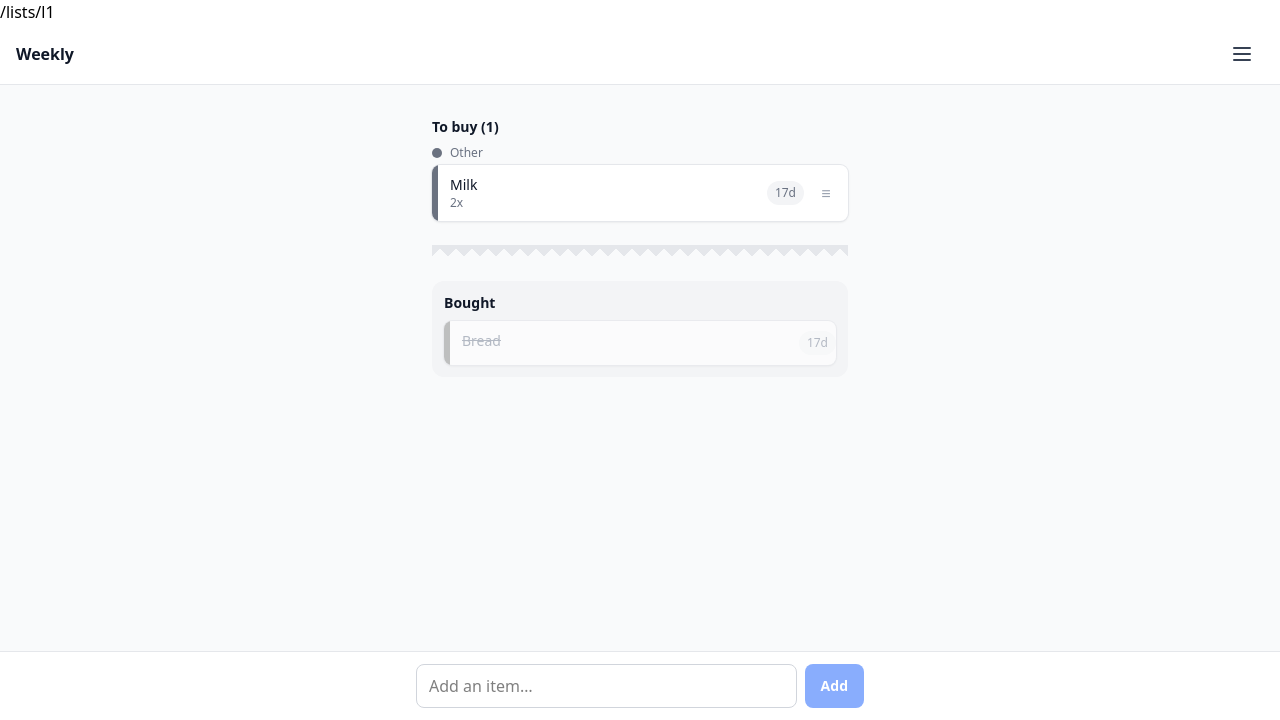
ListsPage (docs/TASKS.md → T30 single-line header + overlay menu) › creates a list from the menu, selects it, and refetches its items
Expected: the list item with test id "item-row-i1" is shown, [432,165,848,221]
Click the button named "Menu". click: point(1242, 54)
box: [1220,32,1264,76]
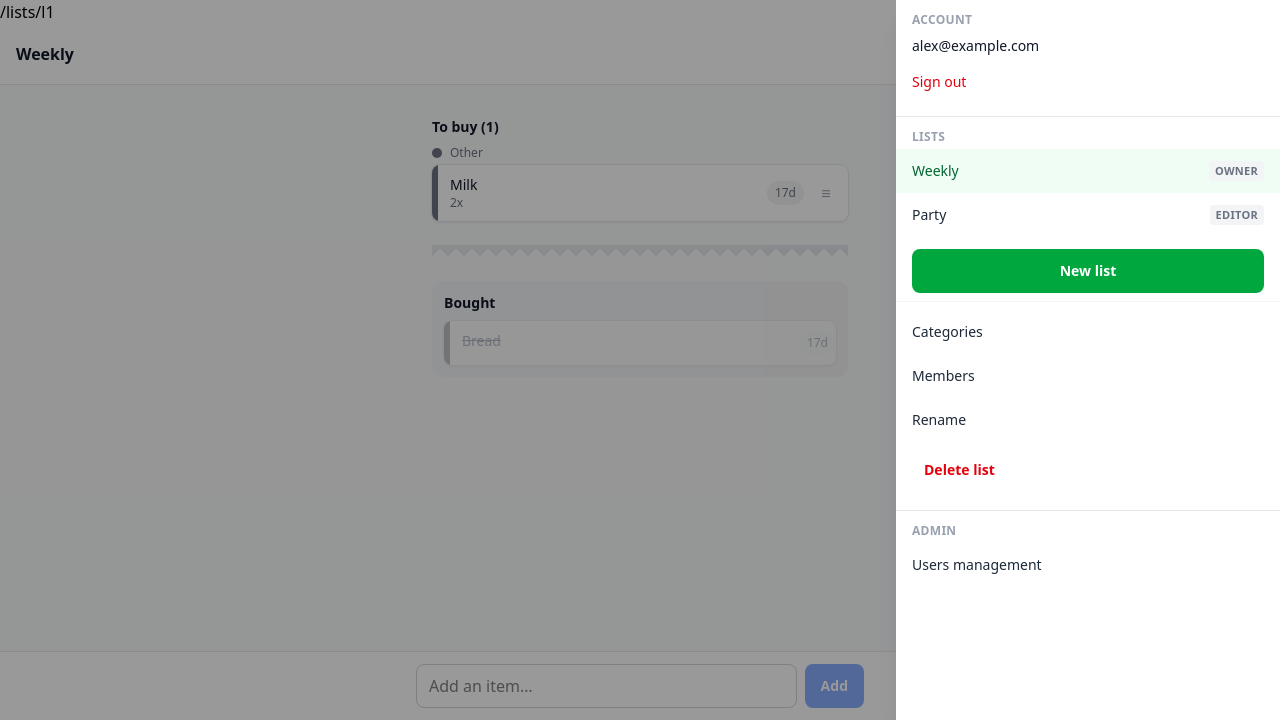
Click the button "New list". click: point(1088, 271)
box: [912,249,1264,293]
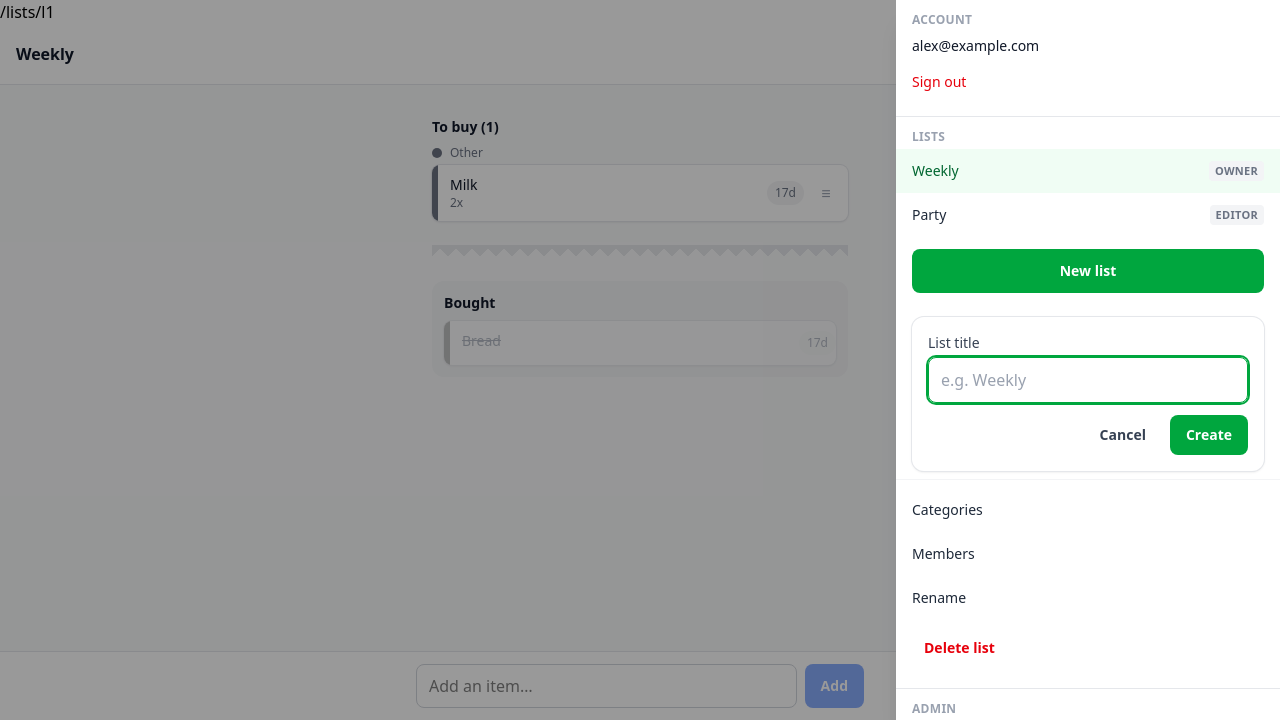
Type "Party prep" into the field labelled "List title". click: point(1088, 380)
box: [928,357,1248,403]
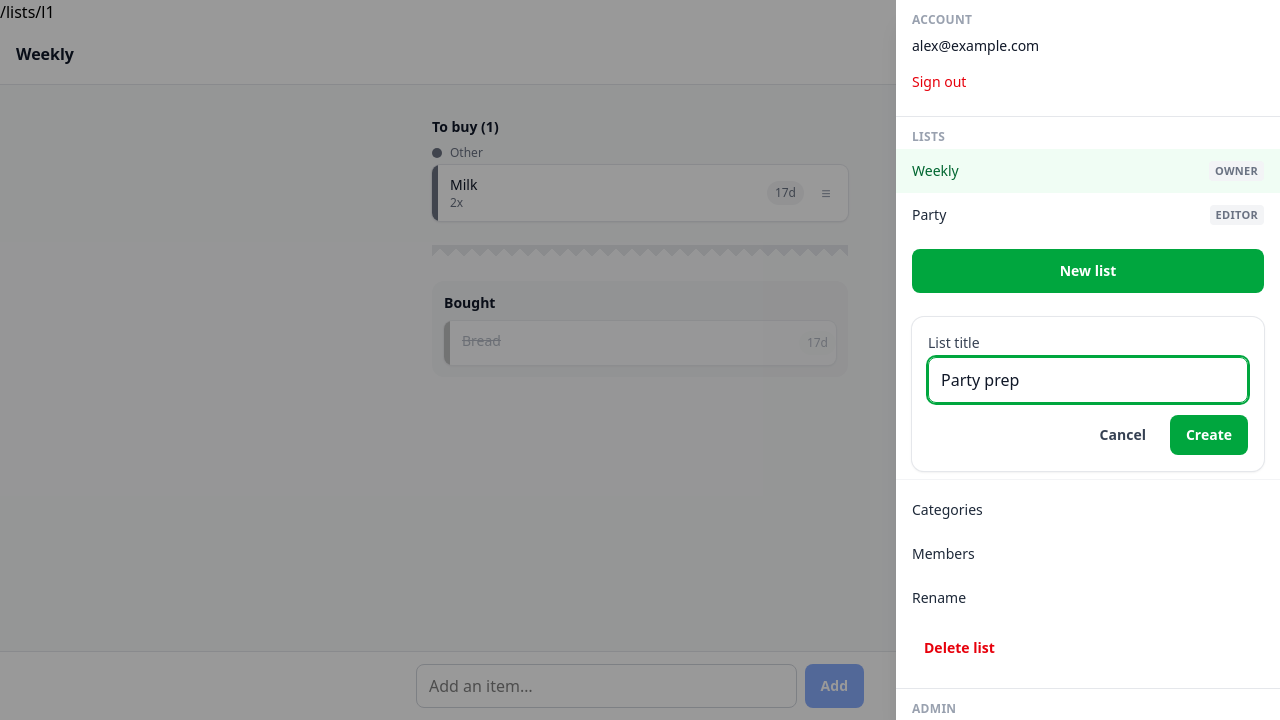
Click the button "Create". click: point(1209, 435)
box: [1170,415,1248,455]
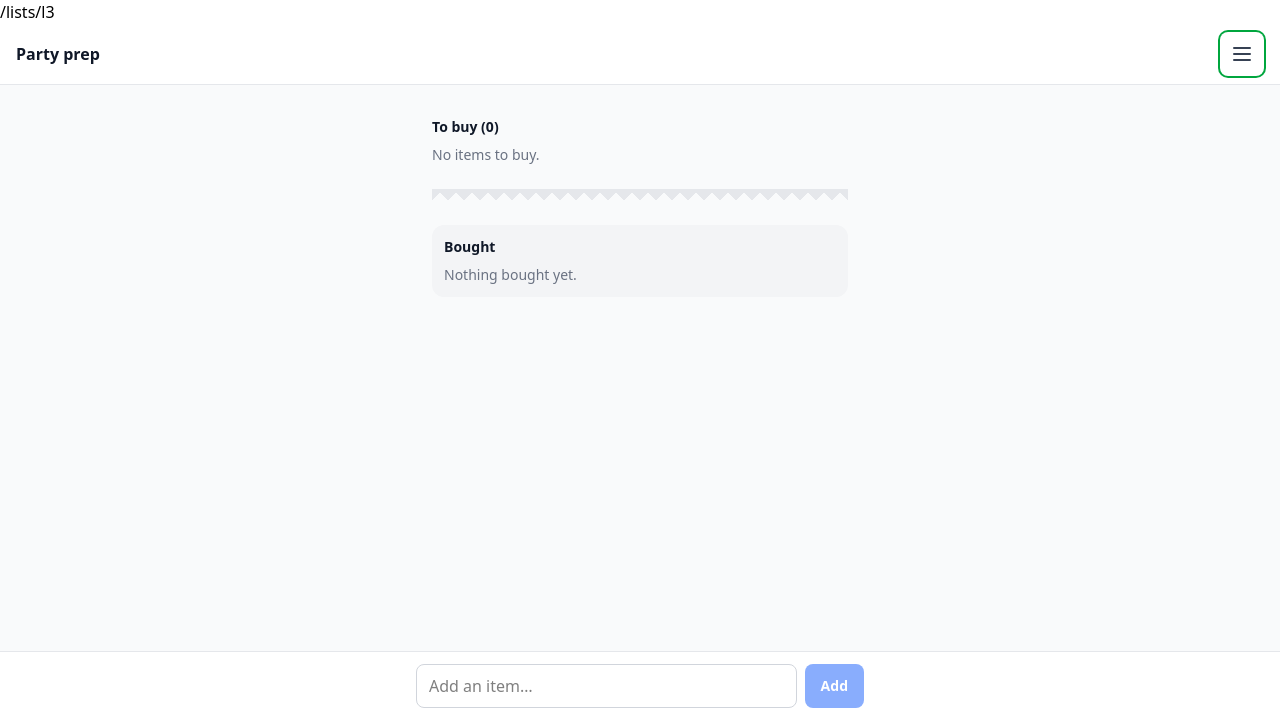
Expected: the element with test id "menu-overlay" is gone
Expected: the text with test id "pathname" reads "/lists/l3", [0,1,54,23]
Expected: the heading "Party prep" is shown, [16,43,100,65]
